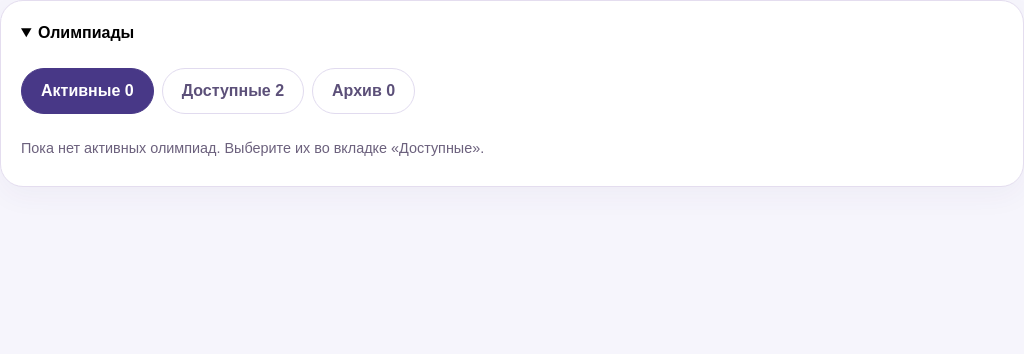
Test: does not claim selection succeeded when the write fails
Click the tab "Доступные 2": (233, 91) [162,68,304,114]
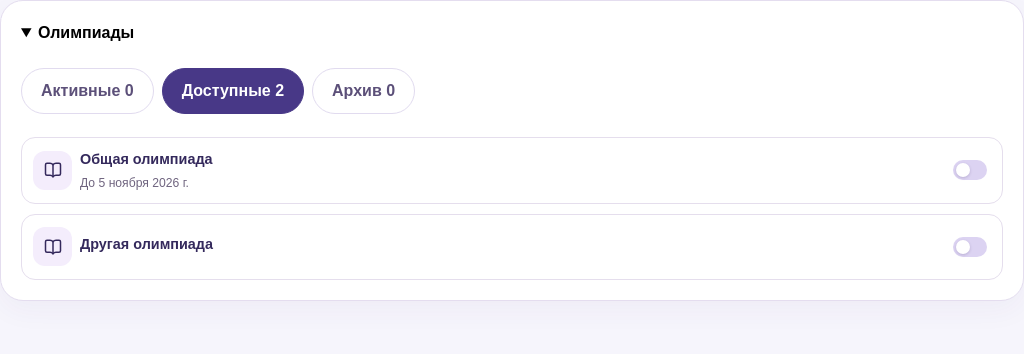
Click the switch named "Подготовка: Общая олимпиада": (970, 170) [949,149,991,191]
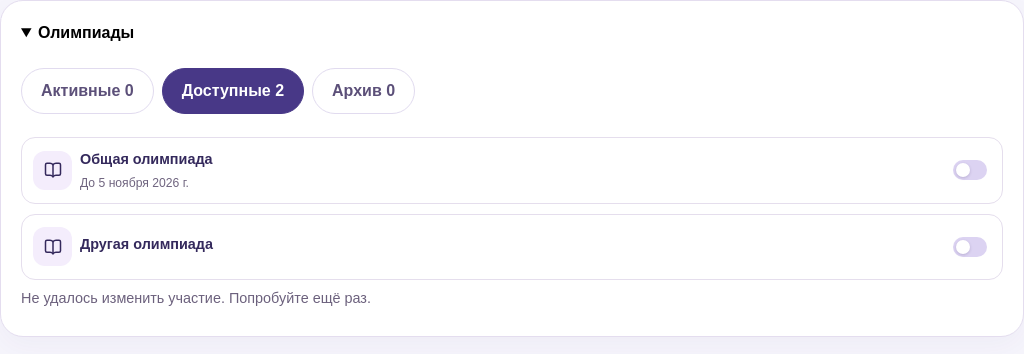
Expected: the text "Активные 0" is shown, [21,68,154,114]
Expected: the text "Не удалось изменить участие" is shown, [21,290,371,306]
